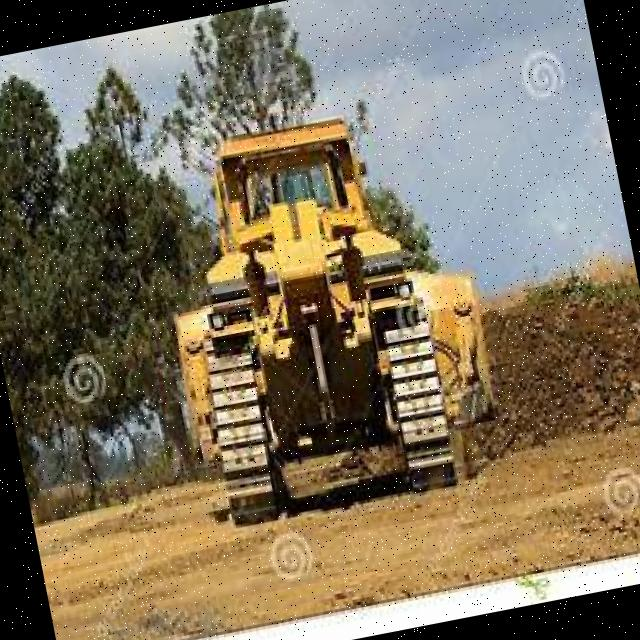Bulldozer: (97, 54, 534, 548)
